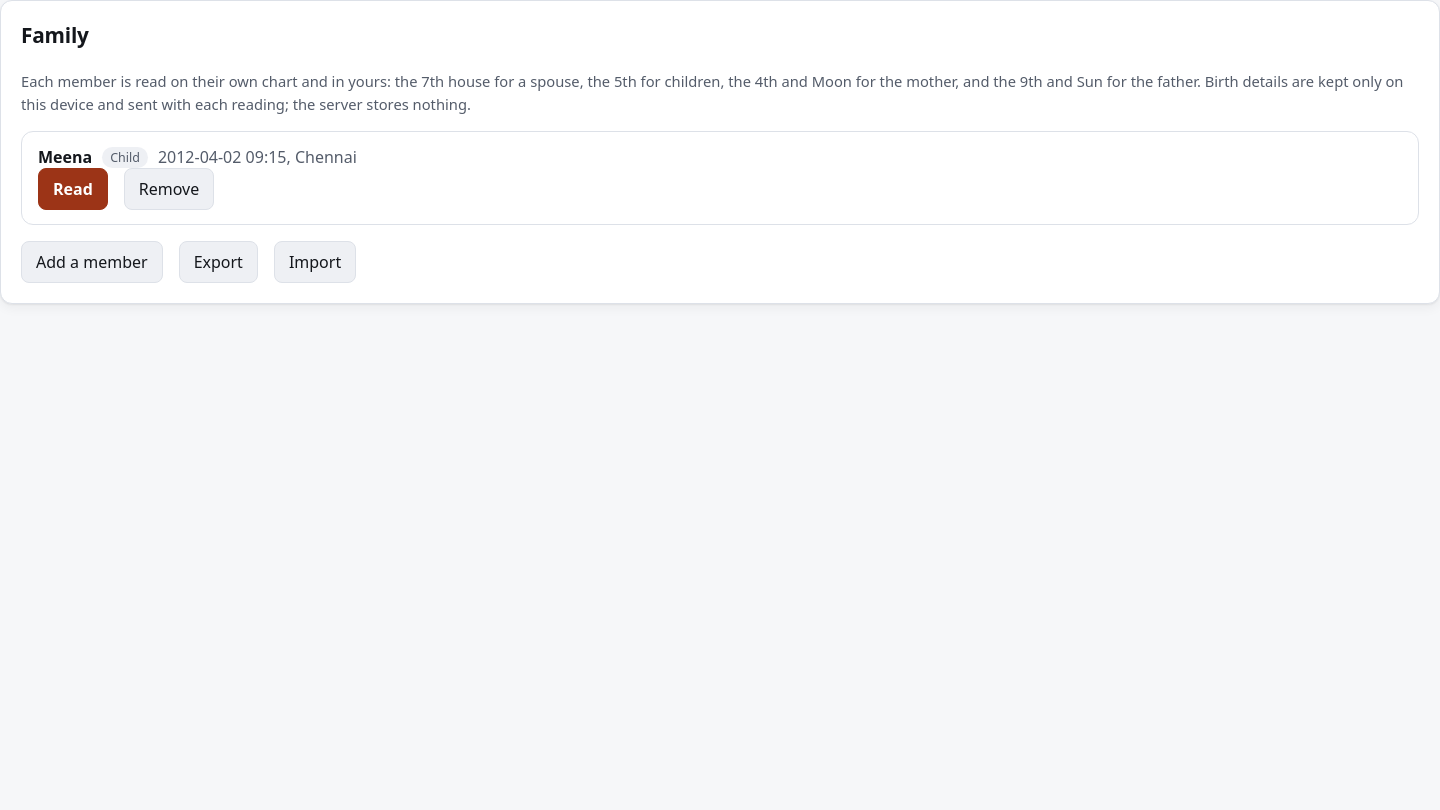
Test: FamilyView › reads a stored member, sending both births, and shows the verdict then the three tabs
Click the button "Read". click: (73, 189)
box: [38, 168, 108, 210]
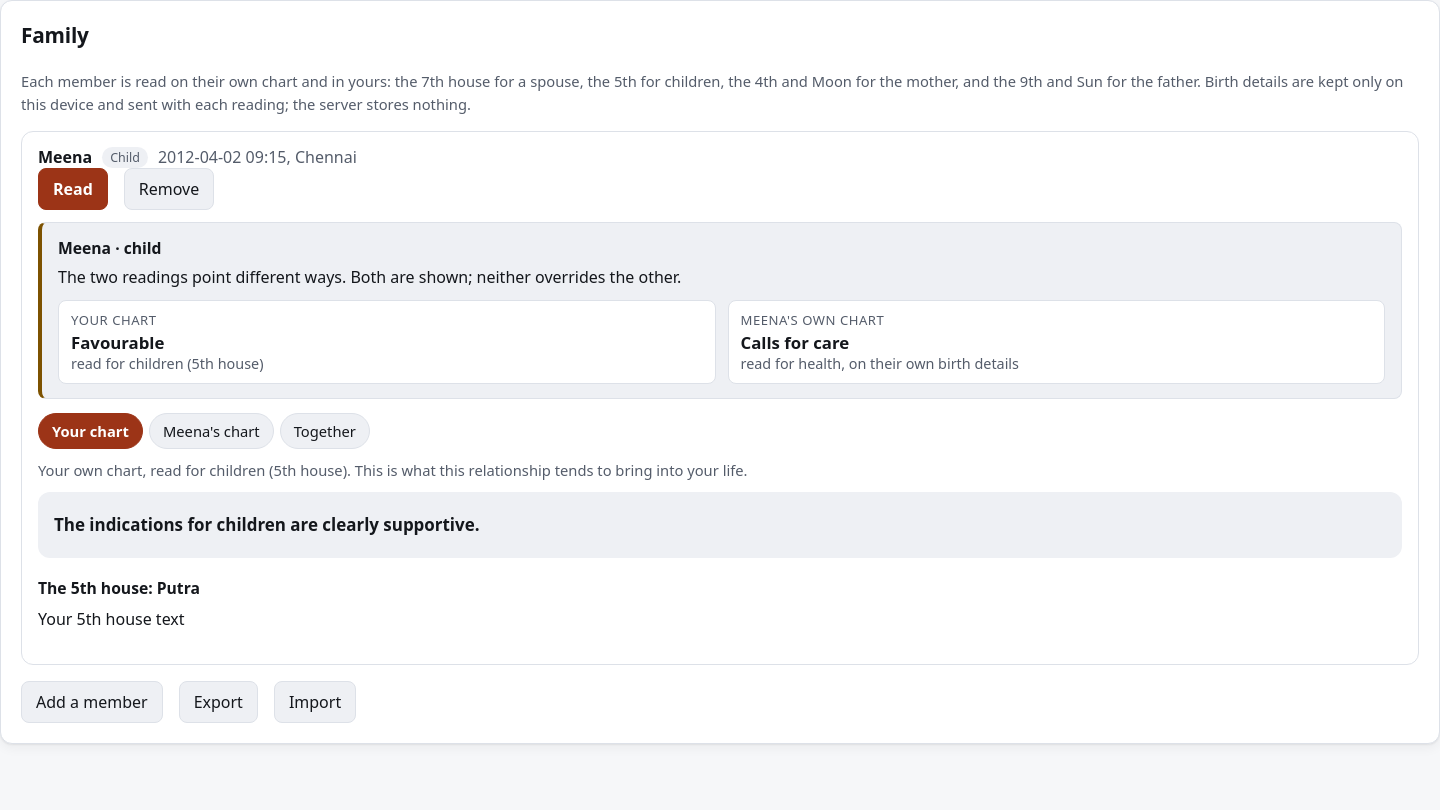
Expected: the text "The two readings point different ways" is shown, [58, 266, 681, 288]
Expected: the heading "Meena · child" is shown, [58, 237, 162, 259]
Expected: the text "Your chart" is shown, [71, 311, 157, 329]
Click the button "Meena's chart". click: (211, 431)
box: [149, 413, 274, 449]
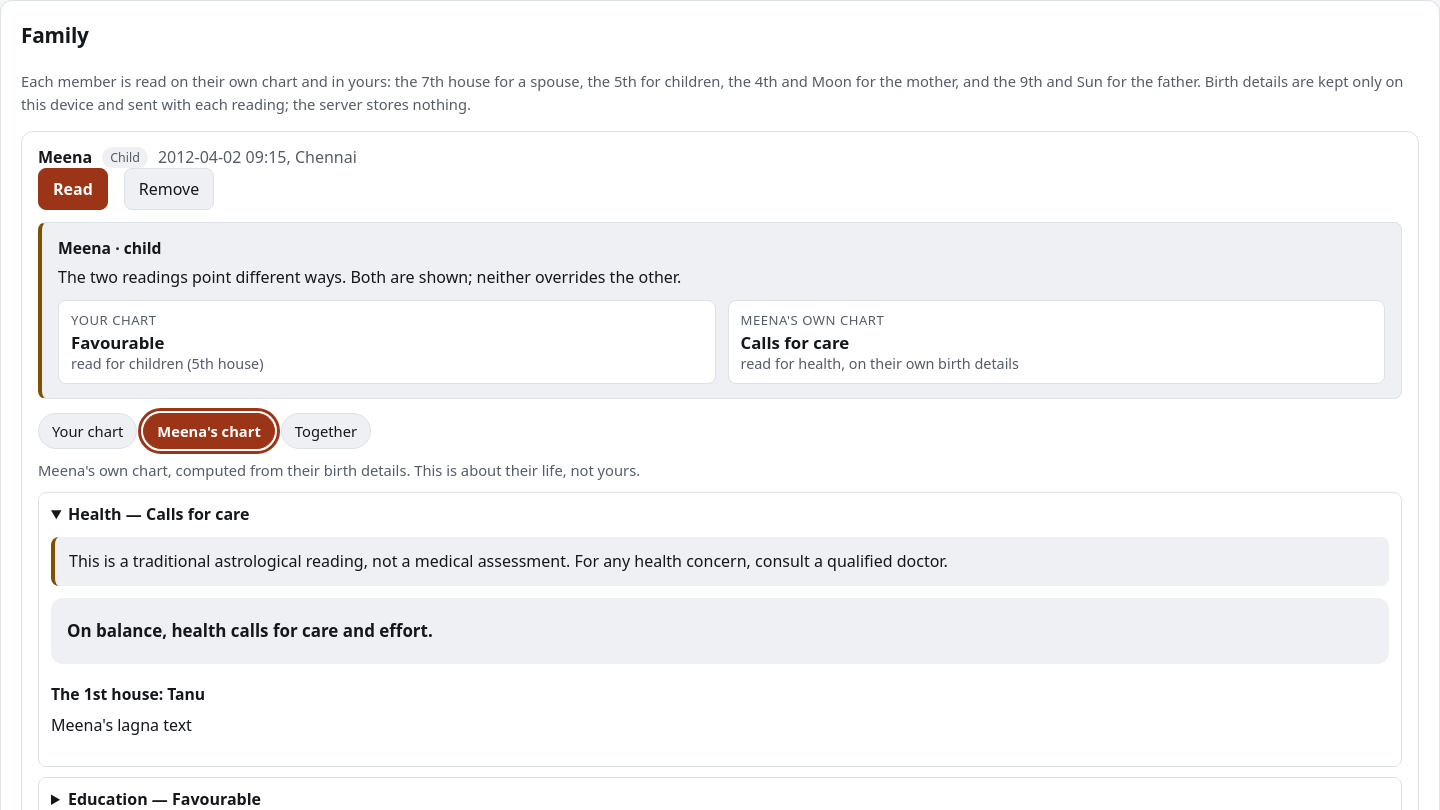
Expected: the text "Meena's lagna text" is shown, [51, 714, 192, 736]
Expected: the heading "Health — Calls for care" is shown, [68, 503, 250, 525]
Expected: the heading "Education — Favourable" is shown, [68, 788, 261, 809]
Together: the engine's own text, with the name filled in on the device.
Click the button "Together". click: (326, 431)
box: [281, 413, 371, 449]
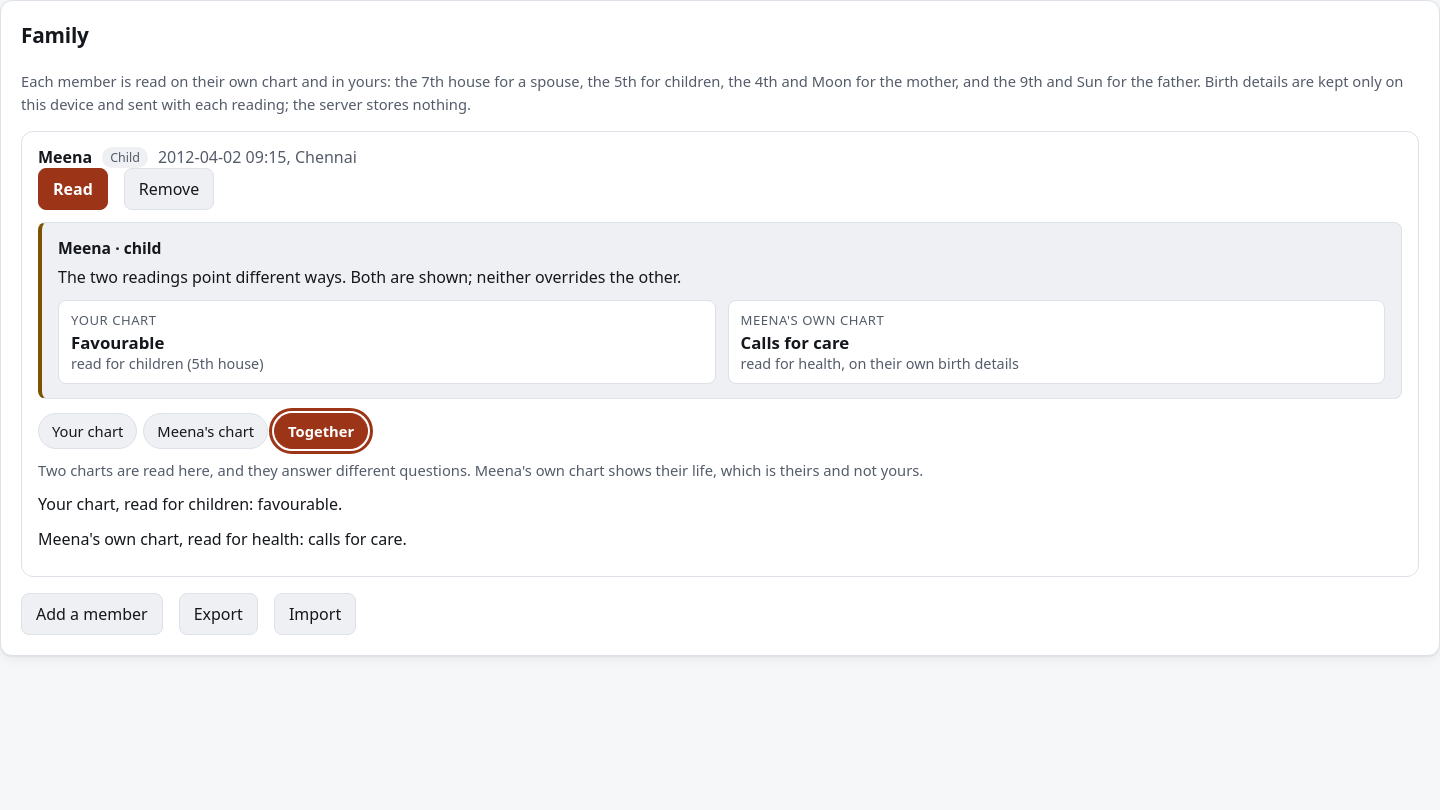
Expected: the text "Meena's own chart shows their life" is shown, [38, 460, 923, 480]
